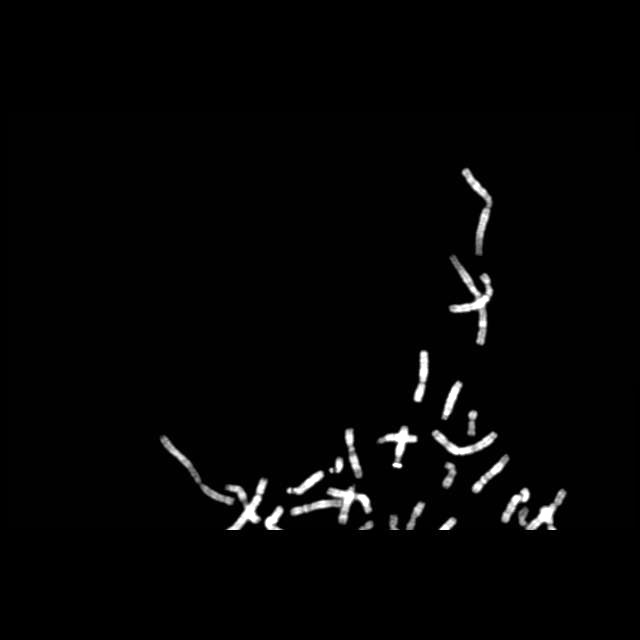chromosome: (161, 436, 233, 504), (449, 255, 487, 345), (462, 168, 494, 258), (227, 476, 267, 530), (430, 429, 496, 455), (526, 488, 568, 528), (449, 274, 493, 312), (473, 453, 509, 492), (225, 484, 260, 522), (326, 488, 370, 512), (500, 488, 530, 522), (344, 428, 364, 478), (287, 470, 325, 496), (290, 498, 342, 516), (390, 424, 410, 470), (441, 381, 463, 421), (414, 351, 430, 404), (338, 486, 356, 522), (406, 501, 426, 531), (378, 433, 418, 445), (266, 506, 284, 530), (442, 462, 456, 488), (540, 507, 556, 529), (468, 409, 478, 437), (328, 458, 344, 474), (440, 516, 456, 530), (518, 508, 530, 526)
